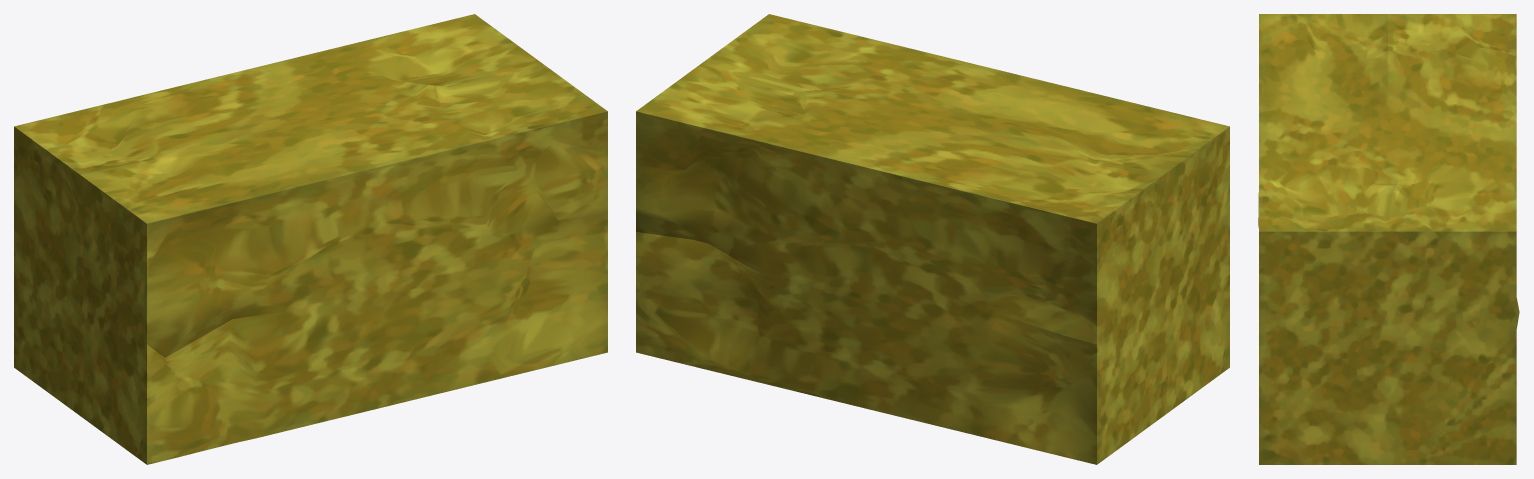
Rendered from grass_block.fbx.
3 views of the same model, side by side, from view 1: azimuth 30°, elevation 25°; view 2: azimuth 150°, elevation 25°; view 3: azimuth 270°, elevation 25° (orthographic). The views are drawn at different scales.
Visible parts, largest first — view 1: desert_grass54; view 2: desert_grass54; view 3: desert_grass54.
Part boxes in pixels (x1,y1,x2,y2): desert_grass54: (14, 14, 607, 464); desert_grass54: (636, 14, 1229, 464); desert_grass54: (1258, 14, 1519, 464).
Bounding box in the file's own units: 200 × 100 × 101.
